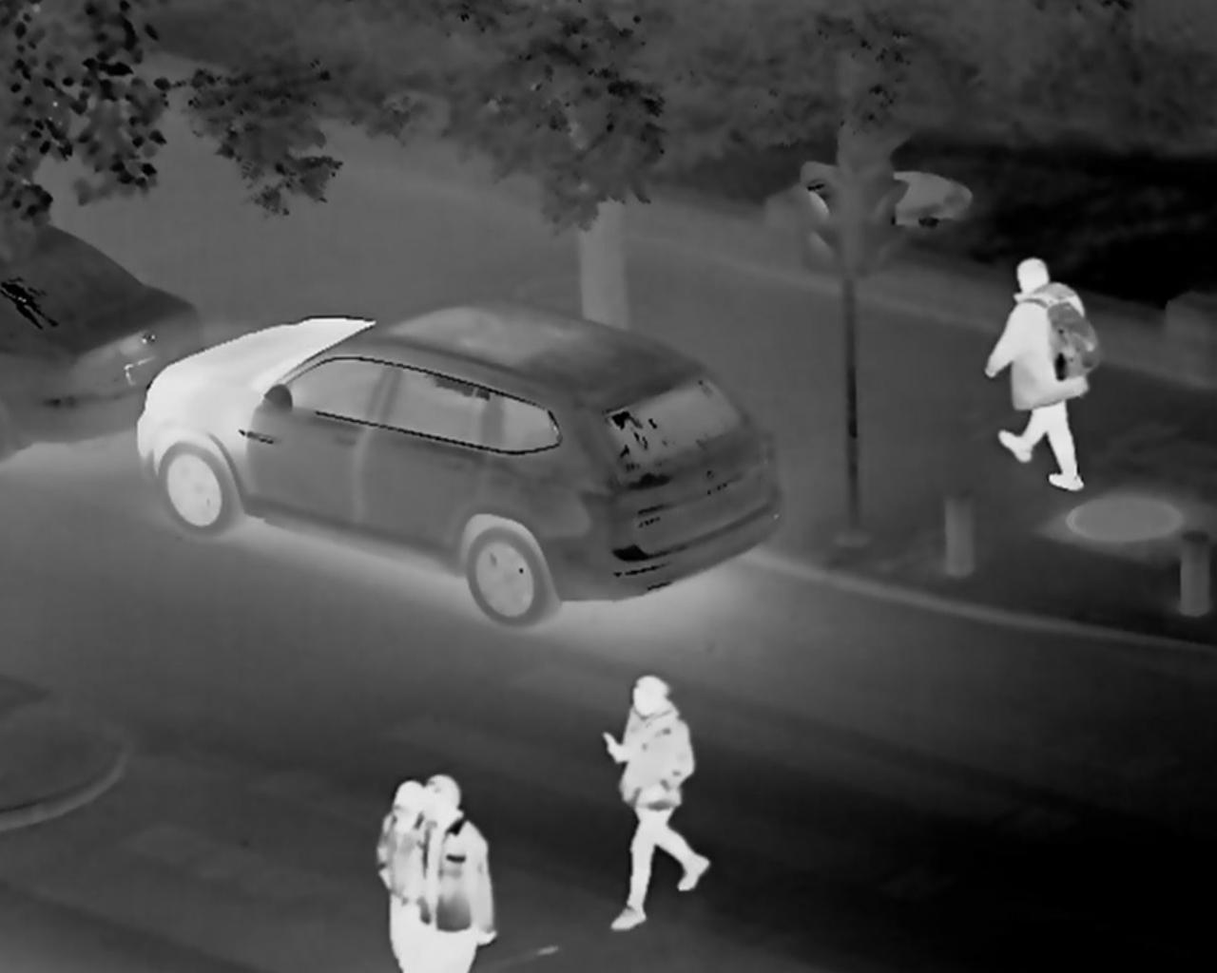person: (990, 247, 1128, 527), (616, 657, 729, 920), (430, 768, 504, 973), (364, 767, 432, 964)
